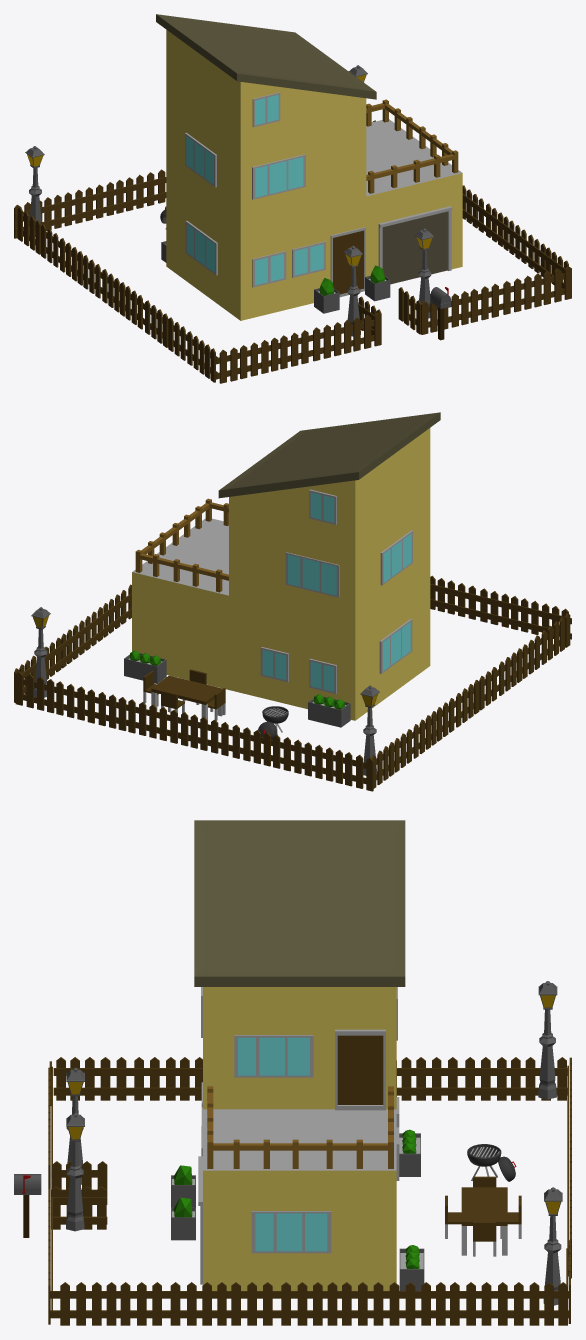
3 views of the same model, one above another, from view 1: azimuth 30°, elevation 25°; view 2: azimuth 150°, elevation 25°; view 3: azimuth 270°, elevation 25° (orthographic). The views are drawn at different scales.
Parts seen in each view (by area): view 1: ev2; view 2: ev2; view 3: ev2.
Part boxes in pixels (x1=…): ev2: x1=14, y1=14, x2=571, y2=383; ev2: x1=14, y1=412, x2=571, y2=791; ev2: x1=14, y1=820, x2=571, y2=1325.
Size of the model in its own units: 25.08 by 16.93 by 26.01.
